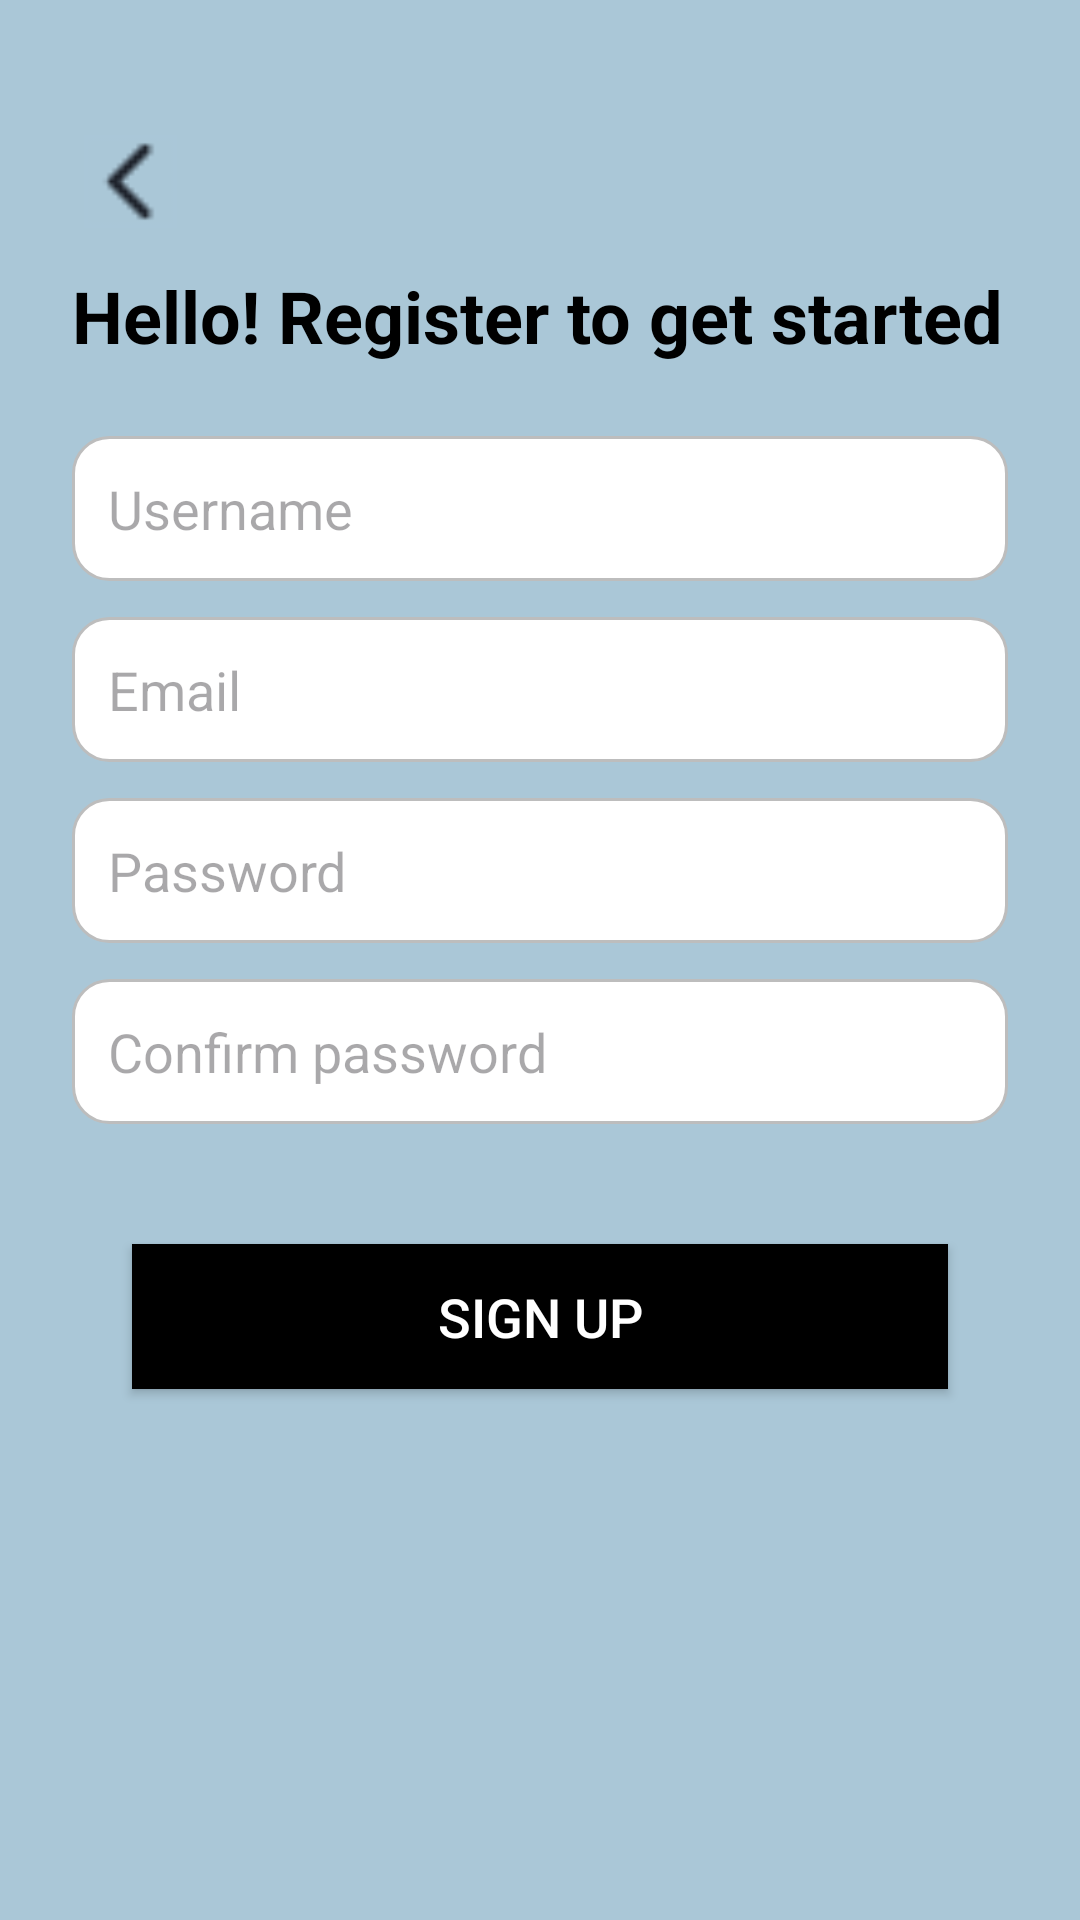

Point at icon controls on the screen. Image size 1080px x 1920px, points as (x,y).
Back: (129,181)
